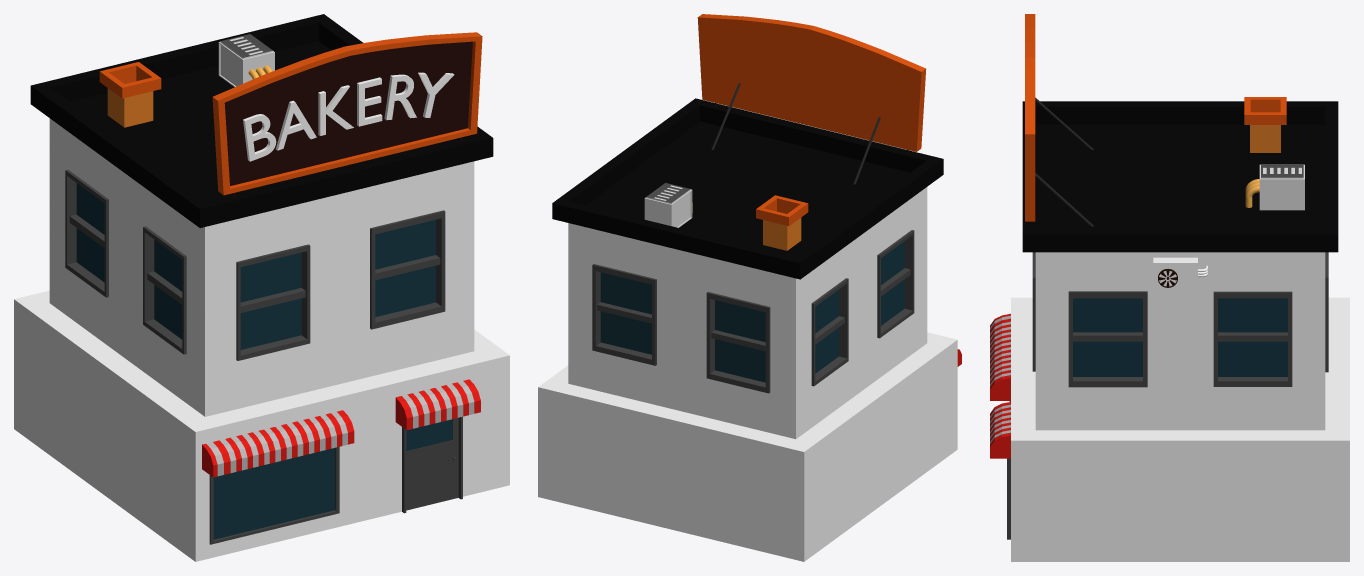
The model's file is Bakery.fbx.
3 views of the same model, side by side, from view 1: azimuth 30°, elevation 25°; view 2: azimuth 150°, elevation 25°; view 3: azimuth 270°, elevation 25° (orthographic). The views are drawn at different scales.
Visible parts, largest first — view 1: Plane.051; view 2: Plane.051; view 3: Plane.051.
Part boxes in pixels (bbox=[...]): Plane.051: bbox=[14, 14, 509, 561]; Plane.051: bbox=[538, 14, 961, 561]; Plane.051: bbox=[990, 14, 1349, 561].
Size of the model in its own units: 556 by 789 by 591.
